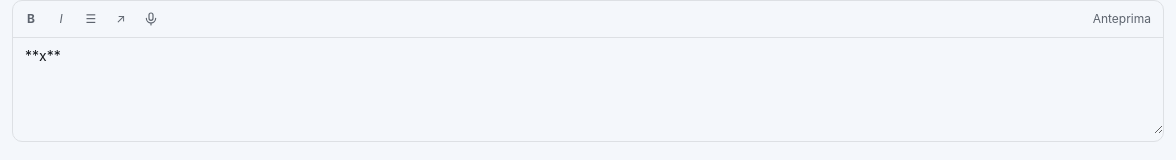
it: MarkdownEditor › Anteprima mostra il markdown reso
Click the button "Anteprima". click: coordinates (1122, 19)
box: [1085,7,1159,31]
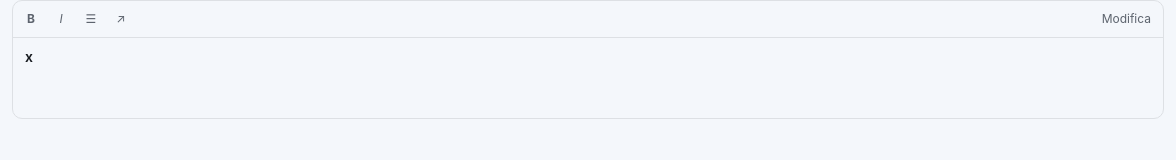
Check: the text box labelled "Note" is gone
